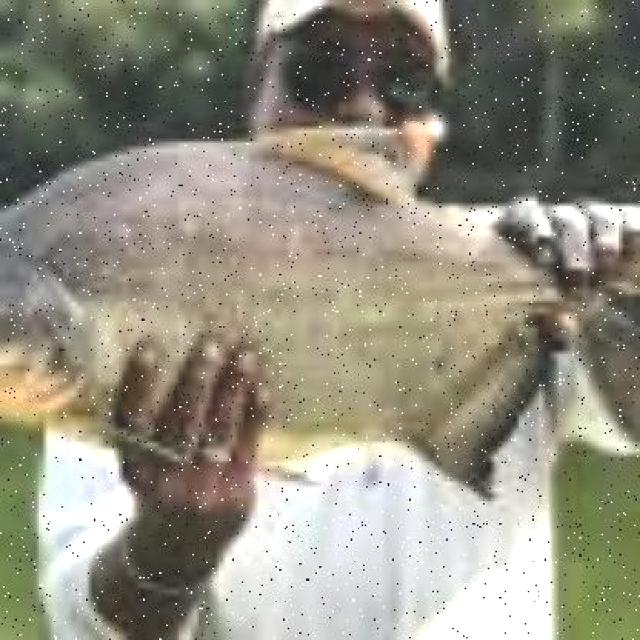ikan-pacu: (6, 140, 640, 476)
